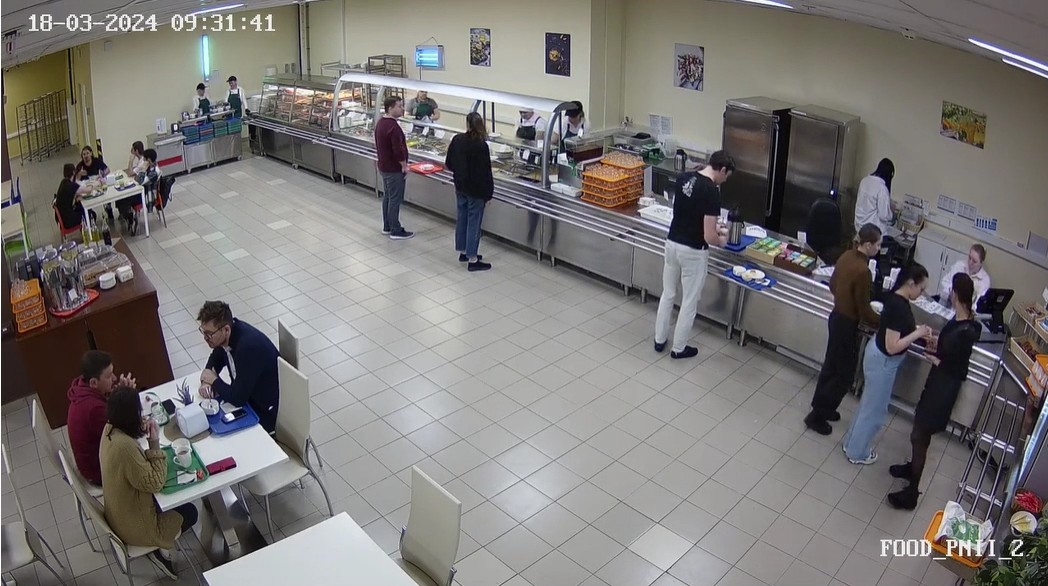Na_Kasse: (816, 263, 1010, 513), (727, 218, 917, 433), (775, 241, 958, 463)
Personal: (934, 229, 1010, 280), (853, 153, 903, 226), (217, 70, 255, 121), (555, 96, 595, 140), (512, 102, 549, 144), (190, 75, 216, 131), (410, 76, 438, 120)
Vybiraet: (582, 139, 760, 364), (442, 99, 501, 279), (363, 86, 412, 248)
Za_Stolom: (195, 293, 312, 445), (98, 378, 173, 549), (43, 344, 126, 485), (48, 153, 94, 238), (130, 146, 173, 215), (69, 140, 115, 182), (117, 129, 148, 185)
